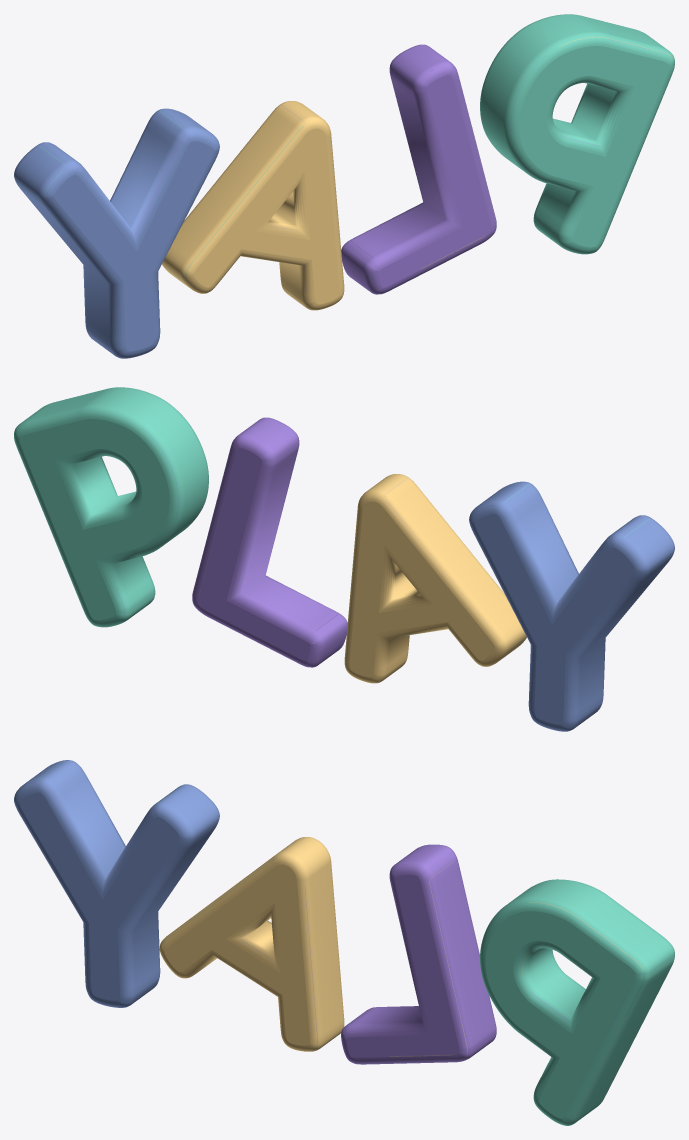
File: PlayButton.fbx
3 views of the same model, one above another, from view 1: azimuth 30°, elevation 25°; view 2: azimuth 150°, elevation 25°; view 3: azimuth 330°, elevation 25° (orthographic).
Parts seen in each view (by area): view 1: PlayButton; view 2: PlayButton; view 3: PlayButton.
Part boxes in pixels (left/top/right/bottom): PlayButton: left=14, top=14, right=674, bottom=358; PlayButton: left=14, top=387, right=674, bottom=731; PlayButton: left=14, top=760, right=674, bottom=1125.
Bounding box in the file's own units: 224 × 76.47 × 21.08.
